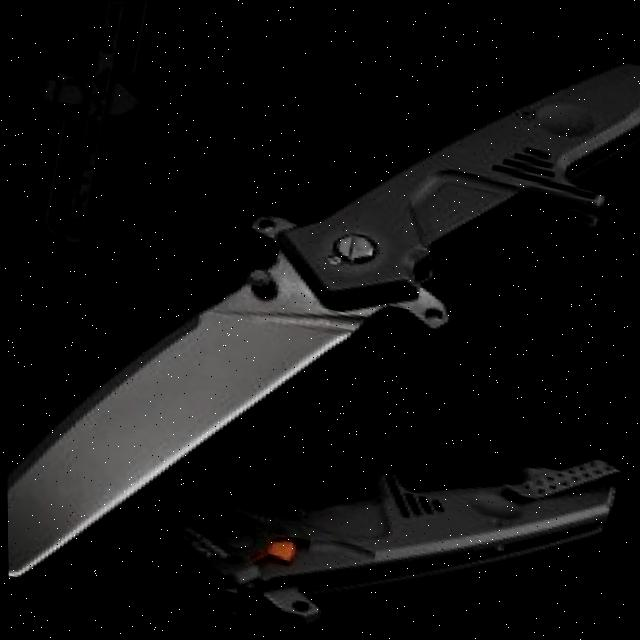knife: (0, 0, 640, 640), (141, 400, 571, 640)
